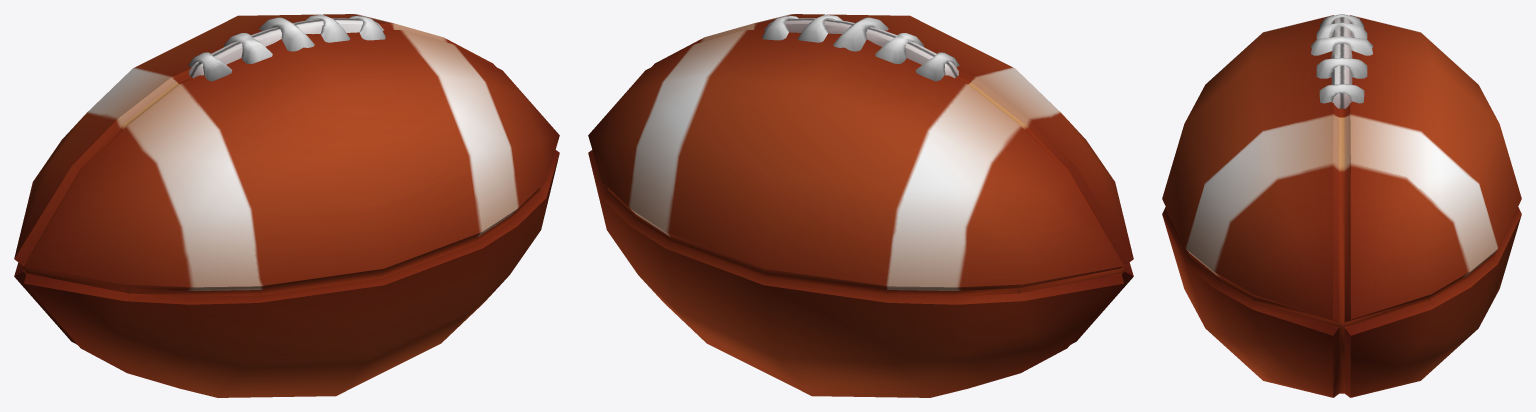
The model's file is AmericanSoccer.glb.
3 renders of one model, left to right at view 1: azimuth 30°, elevation 25°; view 2: azimuth 150°, elevation 25°; view 3: azimuth 270°, elevation 25°, orthographic. The views are drawn at different scales.
Visible parts, largest first — view 1: AFootballV1; view 2: AFootballV1; view 3: AFootballV1.
Part boxes in pixels (<box>): AFootballV1: <box>14,14,559,397</box>; AFootballV1: <box>588,14,1133,397</box>; AFootballV1: <box>1162,14,1521,397</box>.
Bounding box in the file's own units: 2.35 × 1.5 × 1.47.
1 material, 1 textured.
